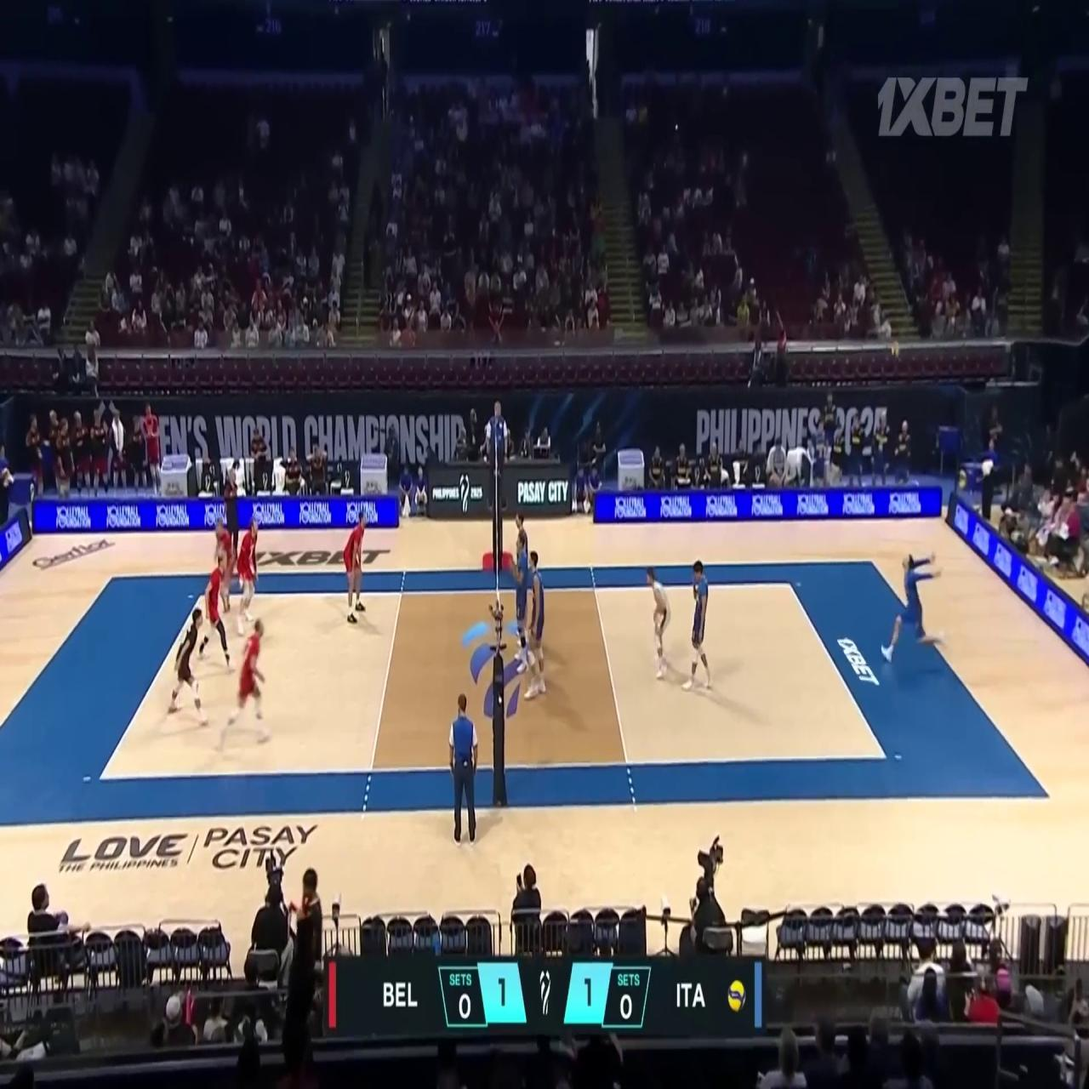ball: (892, 341, 901, 358)
